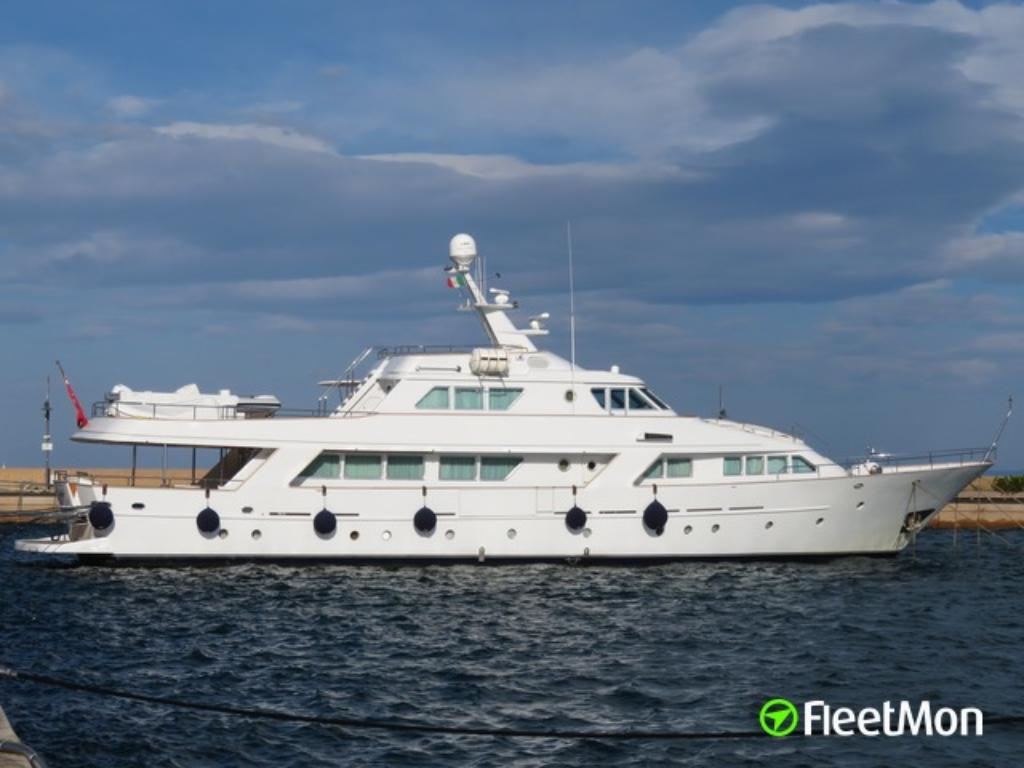PassengerShip: (18, 230, 992, 560)
